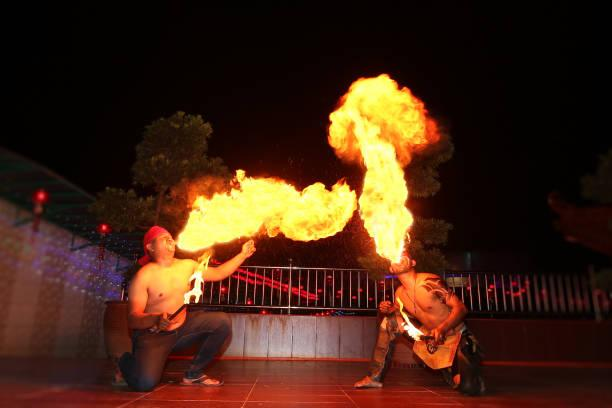Fire: (167, 176, 351, 254), (352, 69, 425, 261)
